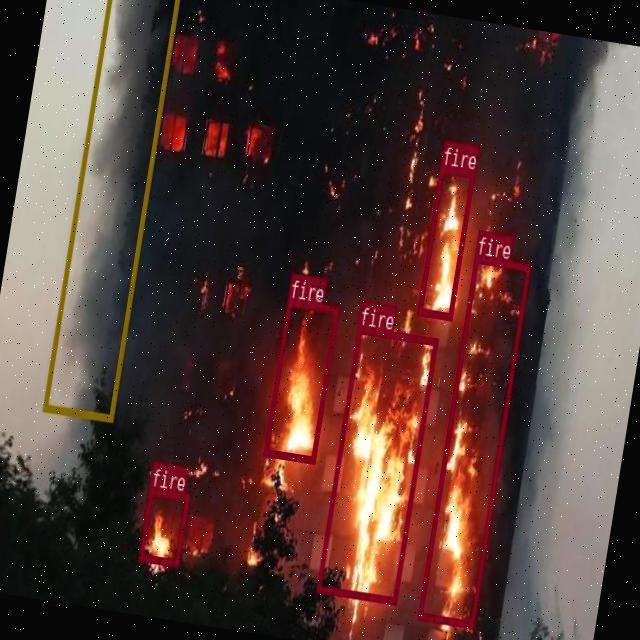fire: (416, 255, 530, 627), (316, 324, 438, 603), (264, 298, 338, 462), (416, 164, 474, 320), (138, 487, 190, 566)
smoke: (42, 0, 183, 422)
